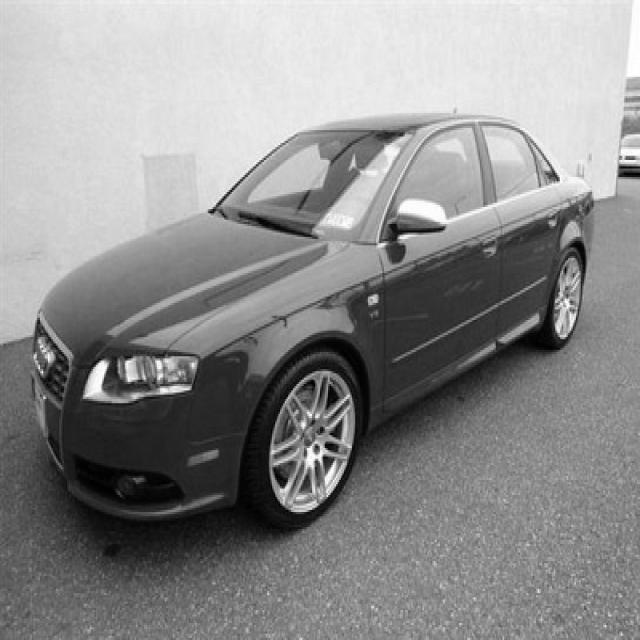car: (29, 109, 595, 531), (618, 132, 638, 175)
